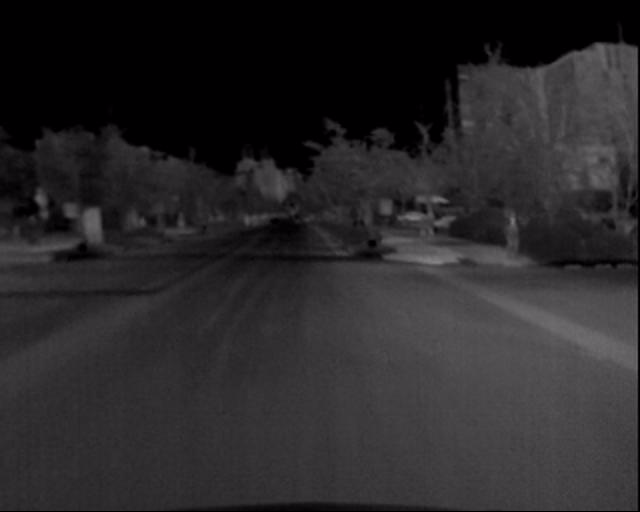person: (498, 210, 528, 268)
